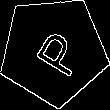P_NW: (23, 22, 84, 80)
